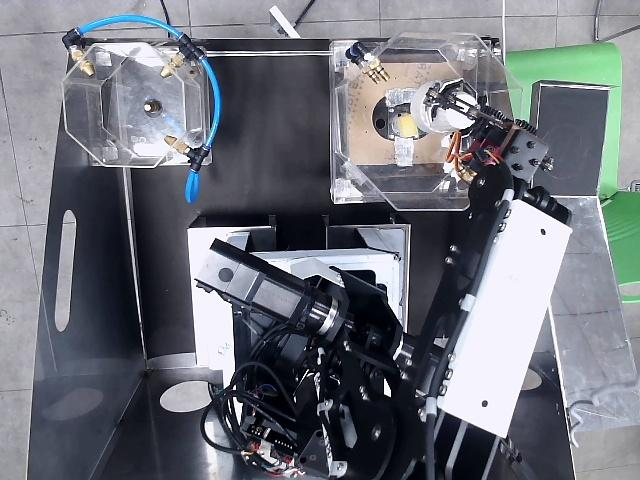cup: (410, 79, 473, 133)
